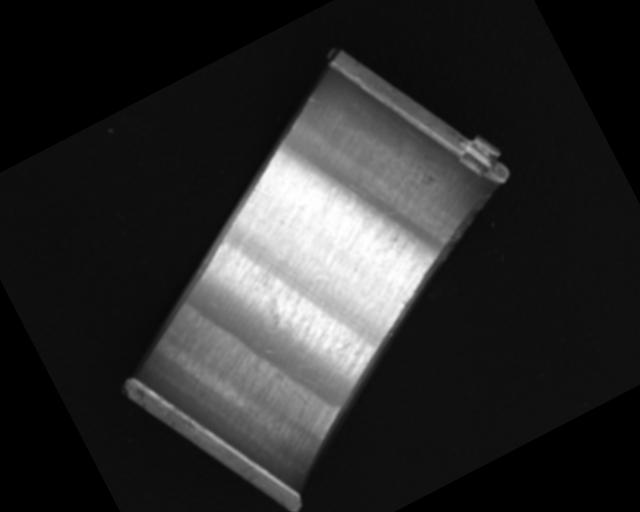nick: (308, 92, 324, 109)
